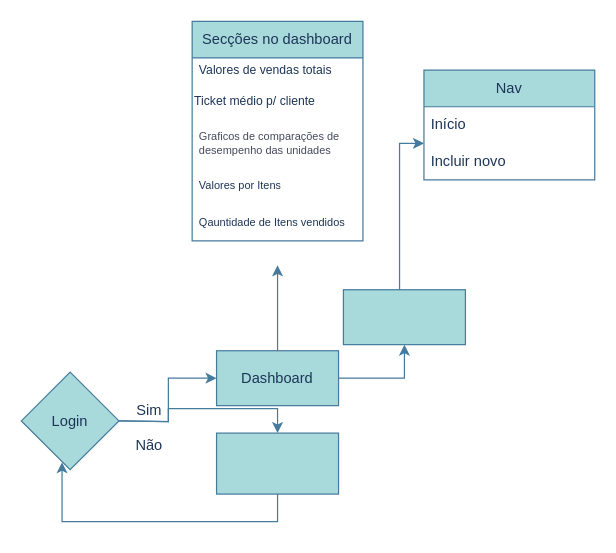
This 616x553 diagram has some shape labels left out. Each missing label, with the centre of its shape:
Barra de navegação: point 403,317
Cria sua conta: point 277,463
